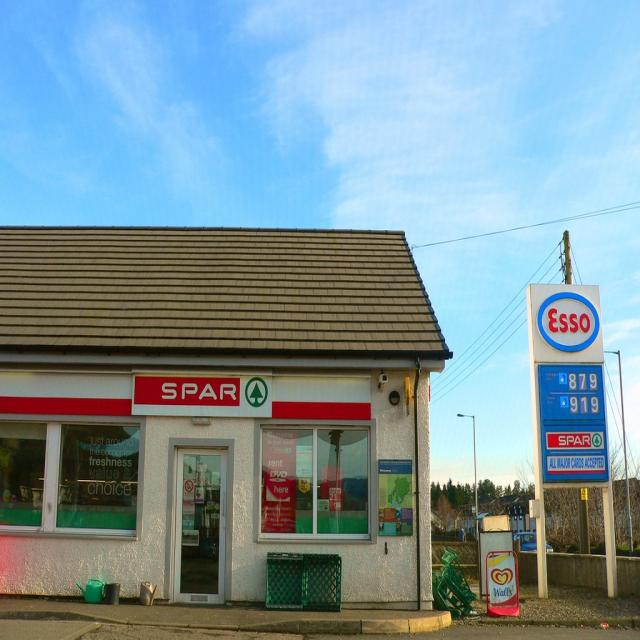esso: (533, 290, 603, 357)
